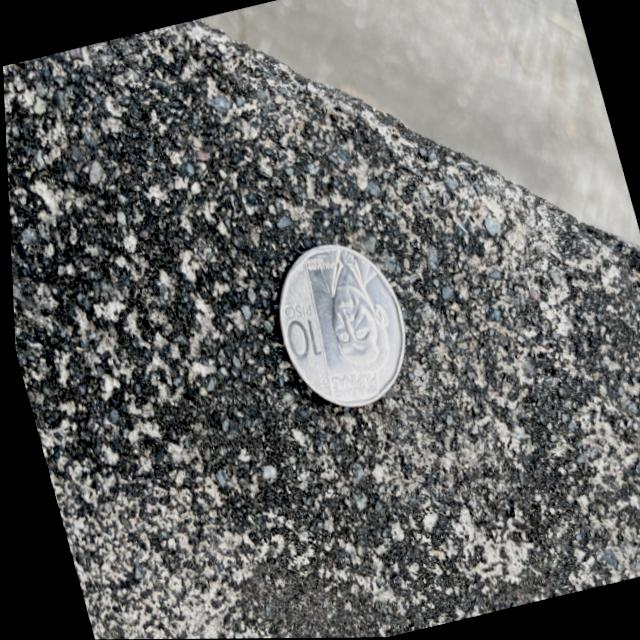10_New_Front: (271, 296, 323, 366)
